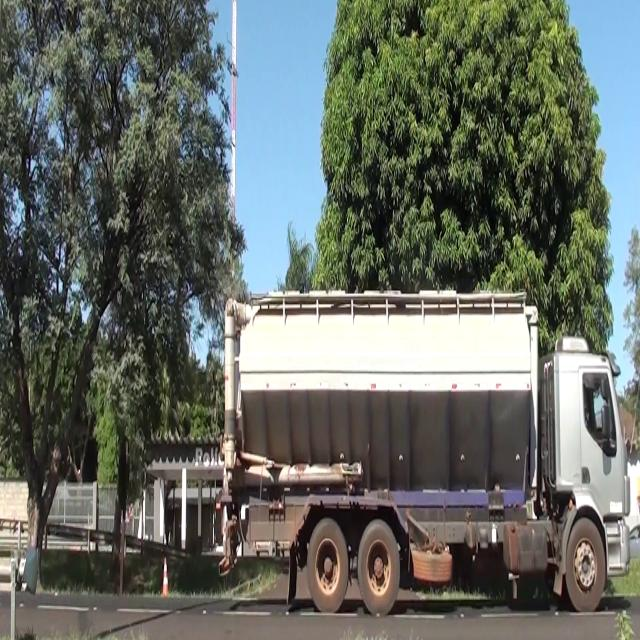-axle: (359, 520, 400, 614), (566, 518, 606, 614), (309, 520, 348, 612)
